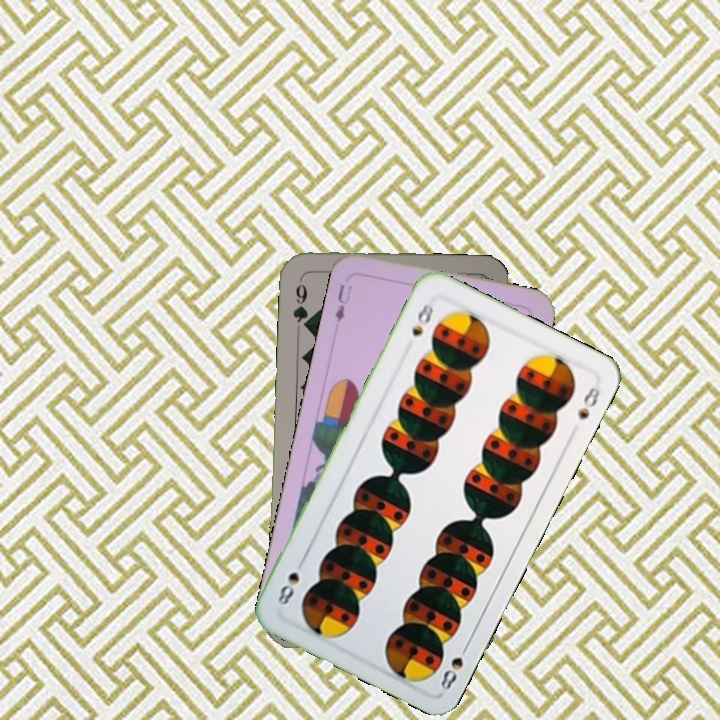EU: (331, 280, 355, 325)
G9: (289, 273, 312, 332)
S8: (436, 638, 473, 693), (407, 299, 436, 339)
